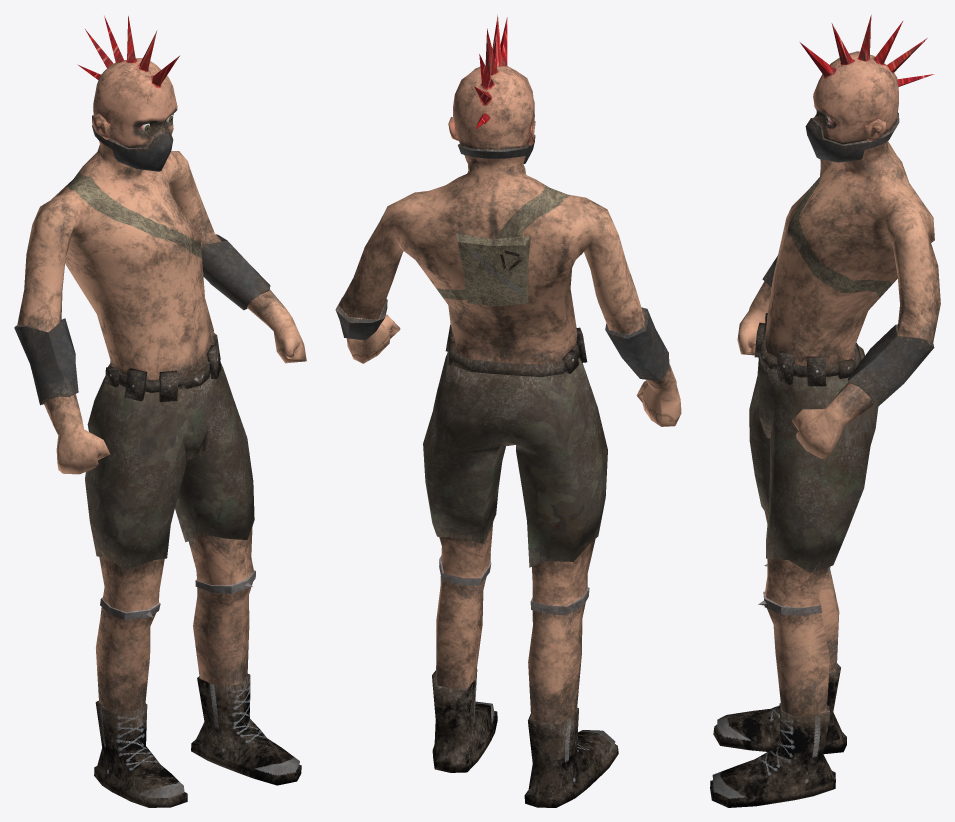
Rendered from Anim_recibirdanyo_1_npc2.0034.obj.
3 renders of one model, left to right at view 1: azimuth 30°, elevation 25°; view 2: azimuth 150°, elevation 25°; view 3: azimuth 270°, elevation 25°, orthographic. The views are drawn at different scales.
Visible parts, largest first — view 1: polySurface1; view 2: polySurface1; view 3: polySurface1.
Part boxes in pixels (bbox=[...]): polySurface1: bbox=[14, 15, 306, 807]; polySurface1: bbox=[335, 14, 681, 807]; polySurface1: bbox=[710, 15, 940, 807].
Size of the model in its own units: 4.08 by 10.09 by 2.82.
